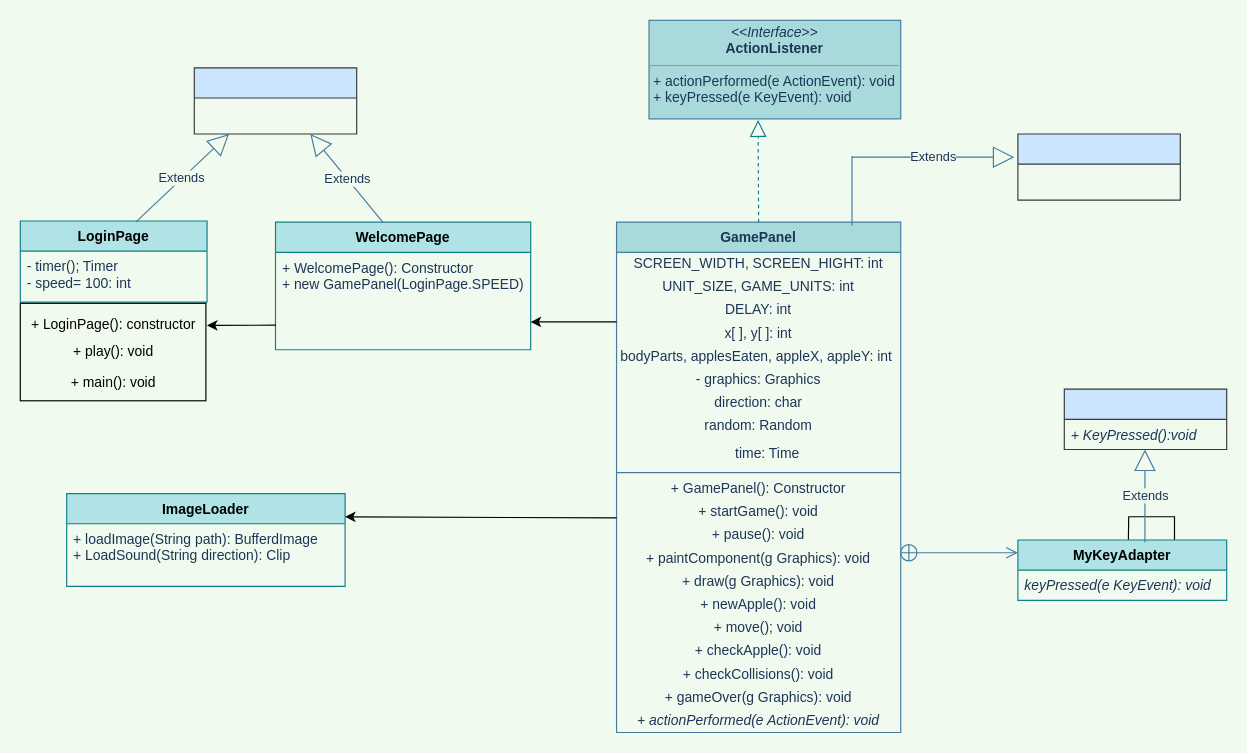
The diagram is 1247 pixels wide and 753 high, and some of its shapes have lost their labels. Here are the shapes that lost their labels. From the top down, the box of each, then its label:
(193, 67, 357, 134): JFrame
(1017, 133, 1180, 200): JPanel
(1063, 388, 1227, 449): KeyAdapter
